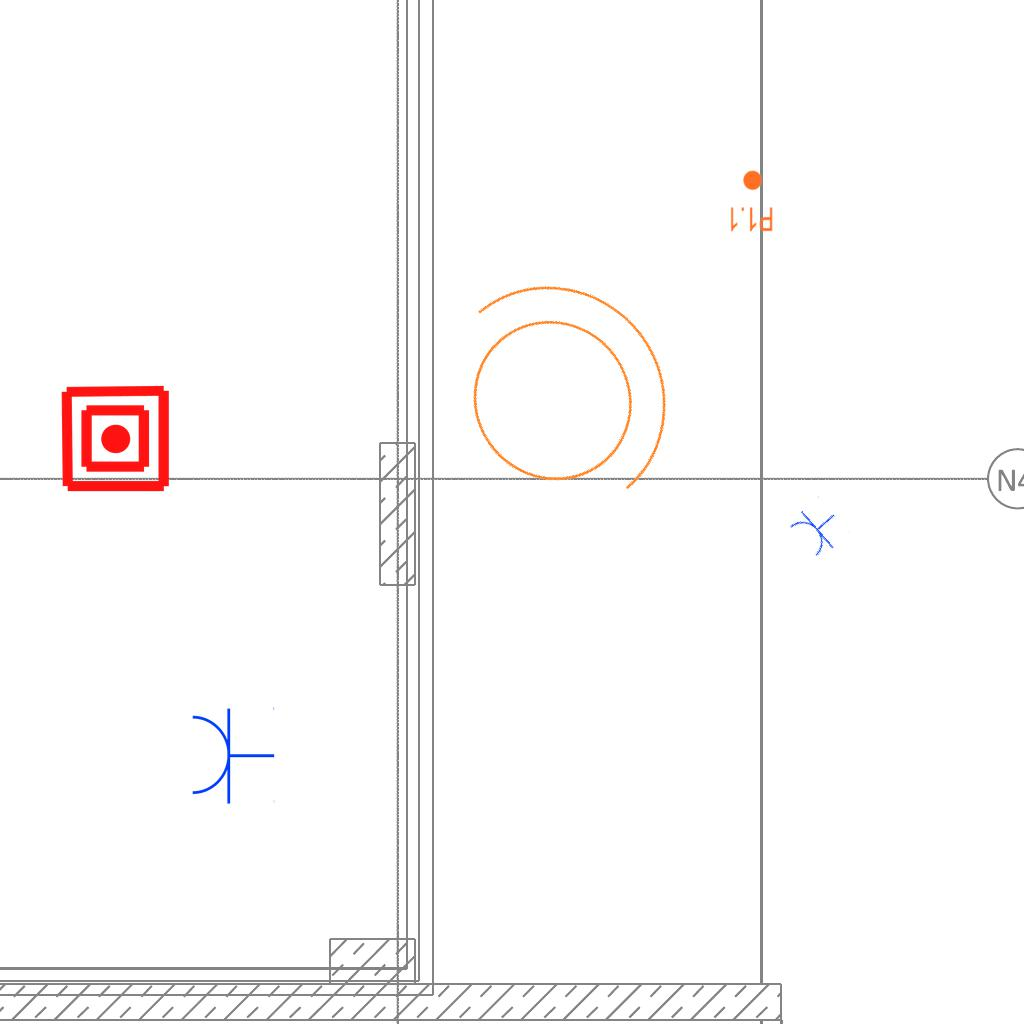Downlight_LED_Einbauleuchten_Flur: (728, 169, 774, 233)
NAM-Nichtautomatischer_Melder: (59, 382, 172, 495)
Scheinwerfer_fuer_Alarmbeleuchtung: (384, 216, 728, 563)
Schukosteckdose_einfach: (188, 705, 275, 805), (785, 495, 851, 562)
